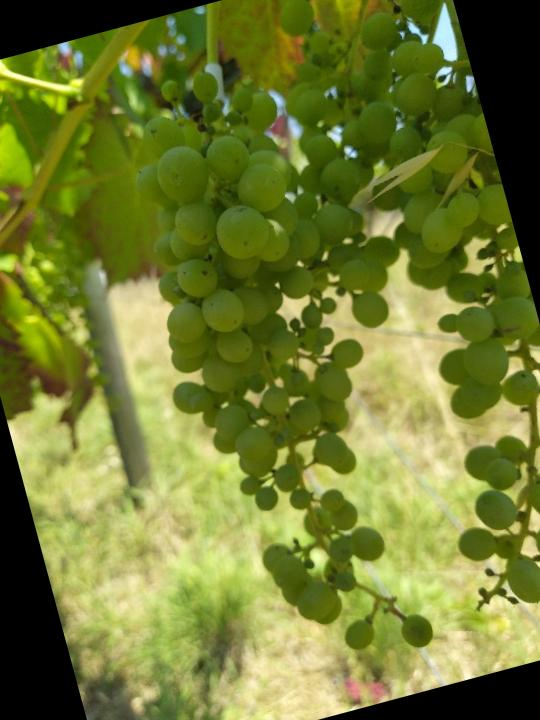grape: (90, 33, 500, 702)
